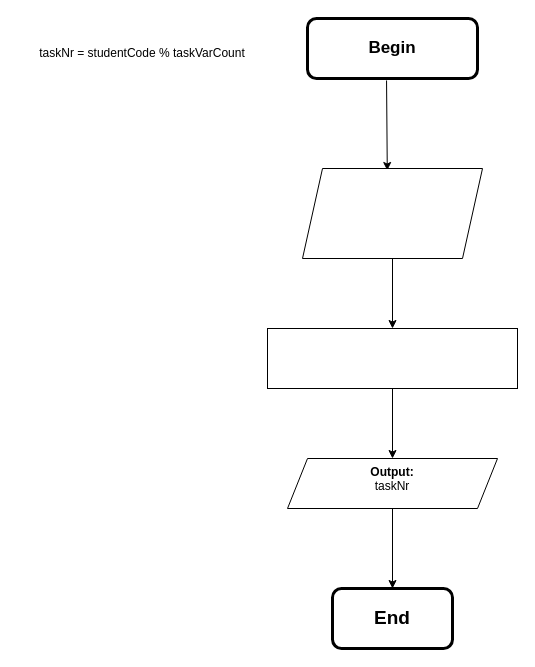
Image size: 535x667. Some labels were removed from this diagram. The centre of each missing label's shape, as x and y in pixels:
"Input: taskNr = 20, studentCode = 83655 , taskVarCount" goes at point (392, 213).
"taskNr = studentCoode % taskVarCount" goes at point (392, 358).
